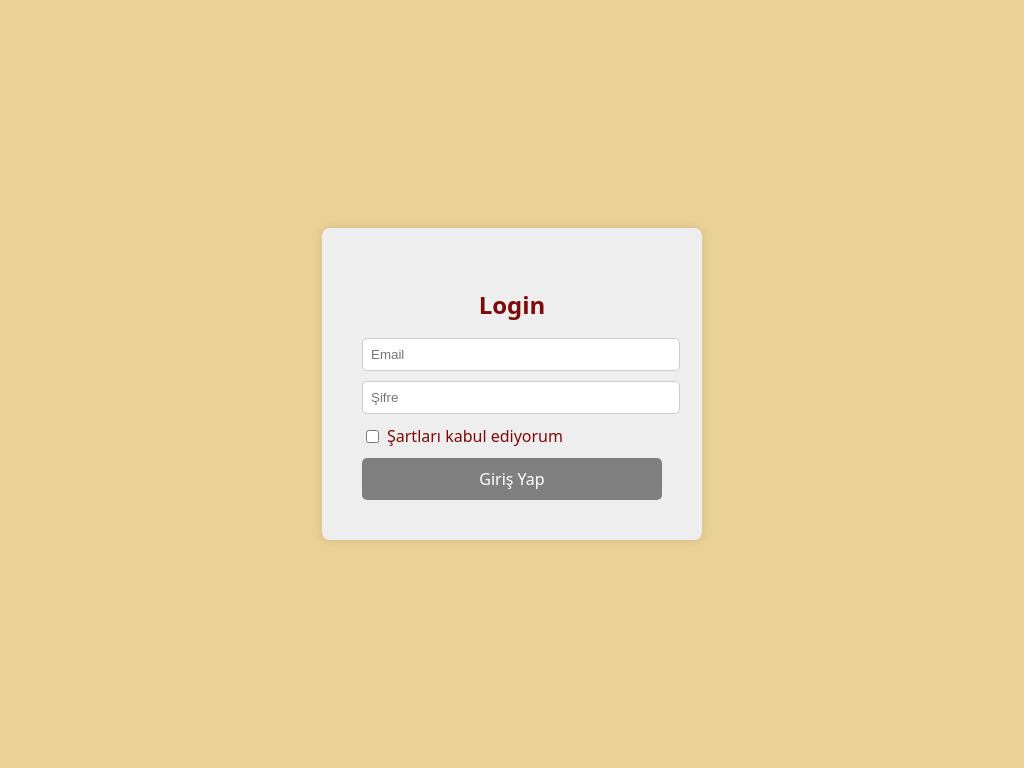
Scenario: Login Form - Başarılı Giriş › Başarılı form doldurulduğunda success sayfasına yönlendirilmeliyim
The width and height of the screenshot is (1024, 768).
// Geçerli bir email ve şifre gir
Type "test@example.com" into the field with placeholder "Email" at (521, 356), box [362, 339, 680, 372]
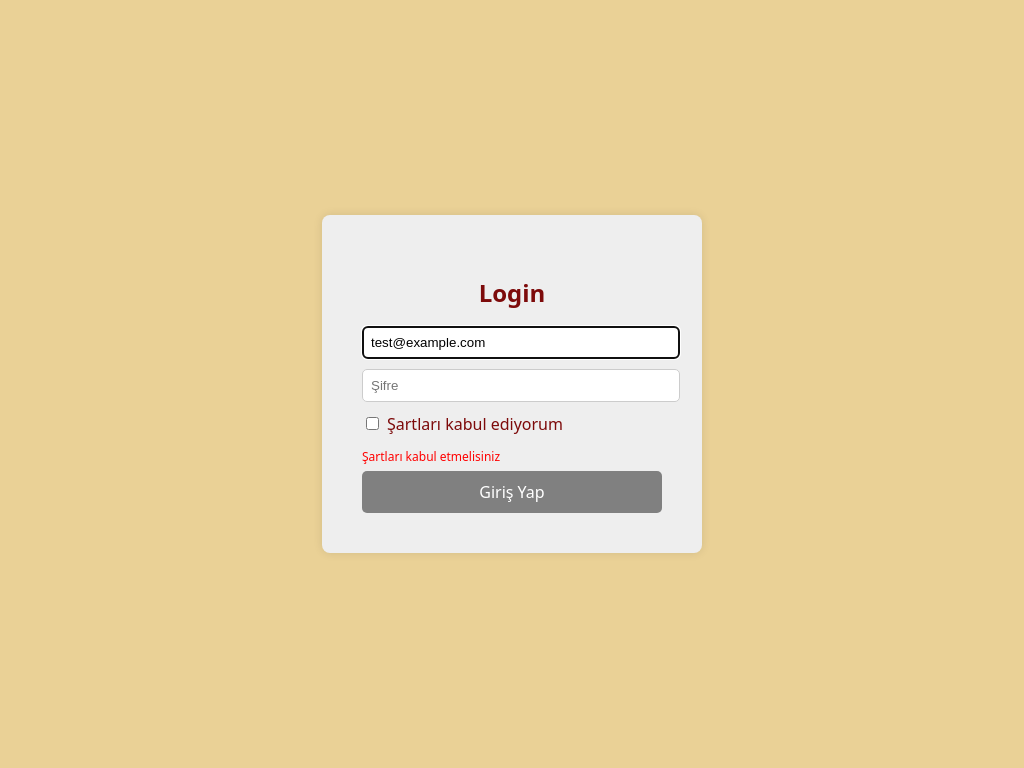
Type "Test@1234" into the password field with placeholder "Şifre" at (521, 386), box [362, 369, 680, 402]
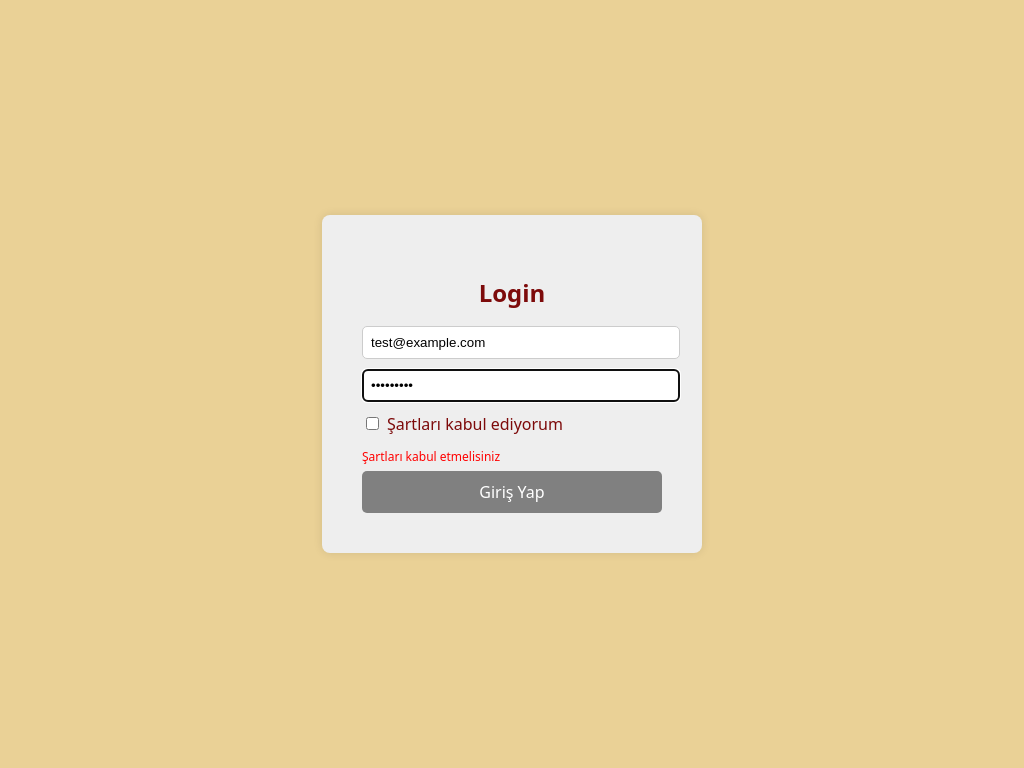
// Şartları kabul et
Check the checkbox at (373, 425), box [366, 418, 379, 431]
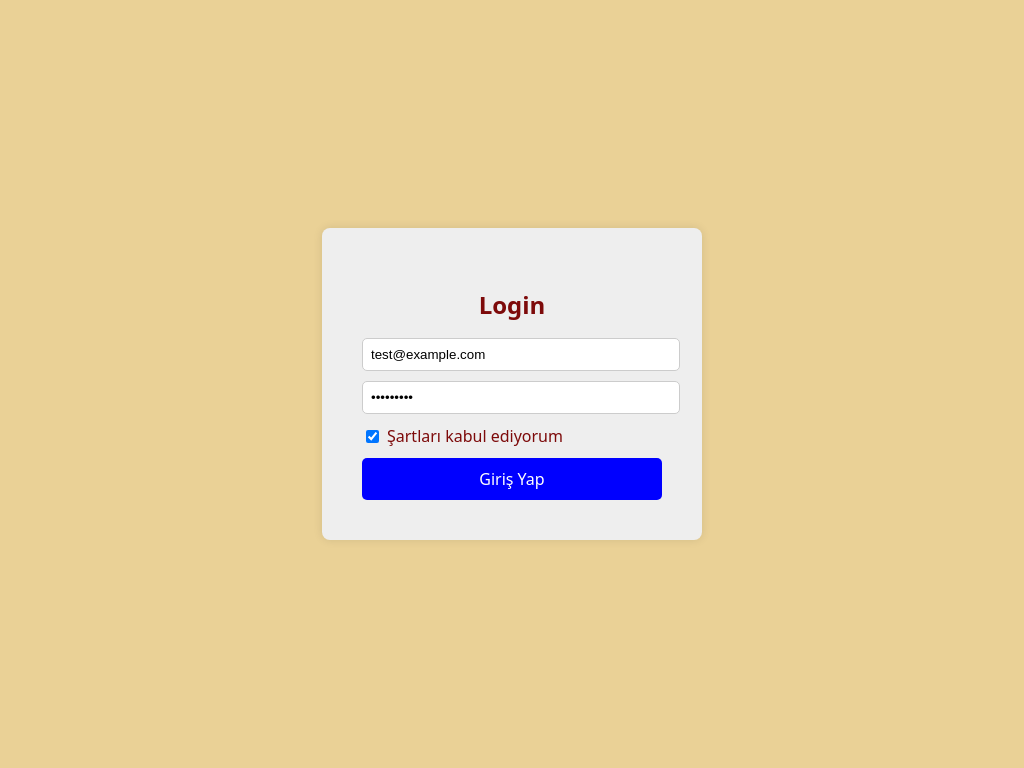
// Formu submit et
Click the submit button at (512, 480), box [362, 459, 662, 501]
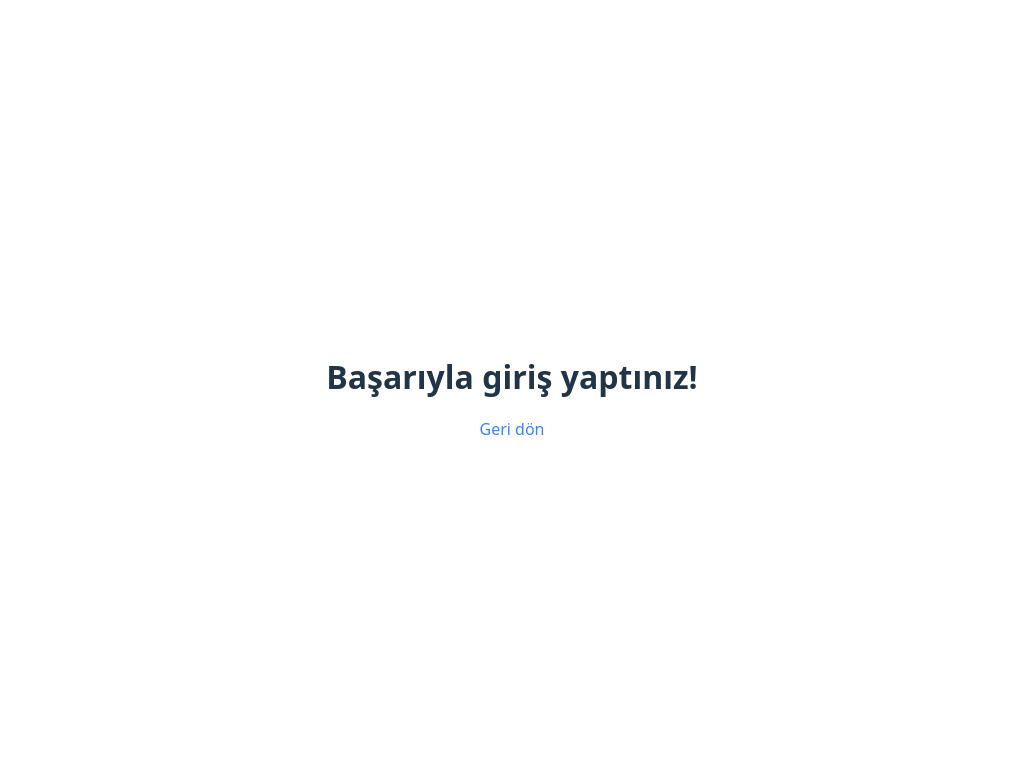
Result: the heading "Başarıyla giriş yaptınız!" is shown at [326, 353, 698, 401]
